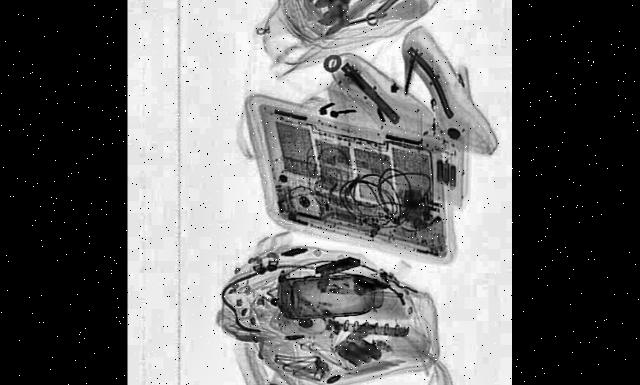Wrench: (304, 0, 461, 34)
